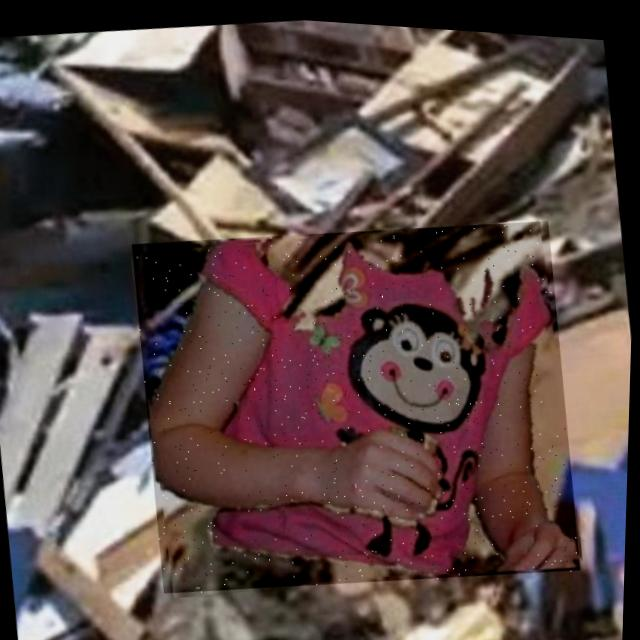Person in Rubble: (124, 191, 592, 613)
